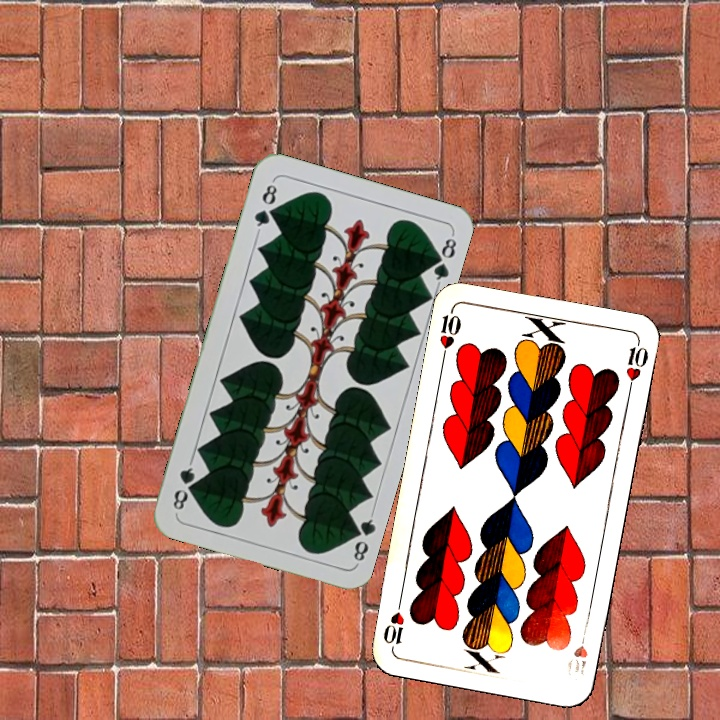G8: (345, 509, 378, 567), (250, 177, 280, 235)
H10: (435, 305, 464, 364), (563, 624, 590, 679)
